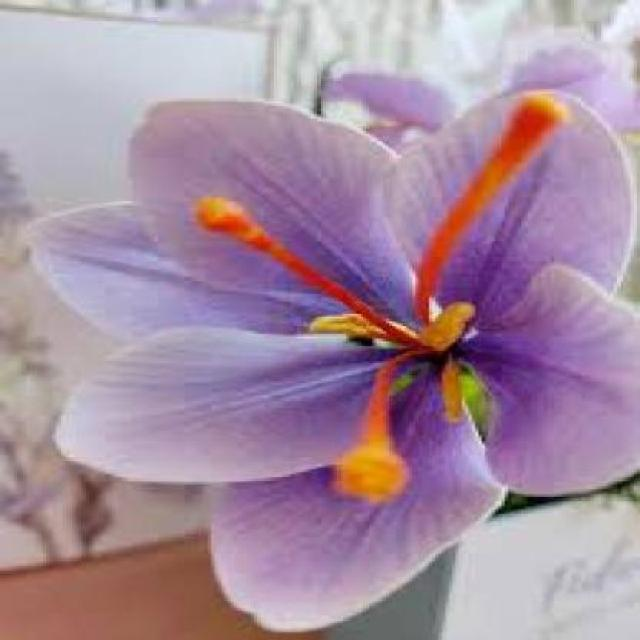saffron open: (40, 91, 640, 628)
